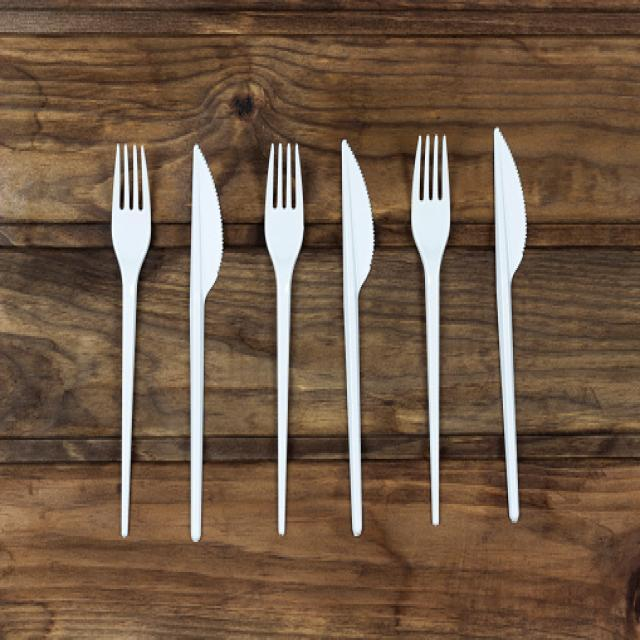plastic utensil: (256, 138, 310, 540), (108, 136, 155, 536), (408, 134, 454, 529)
